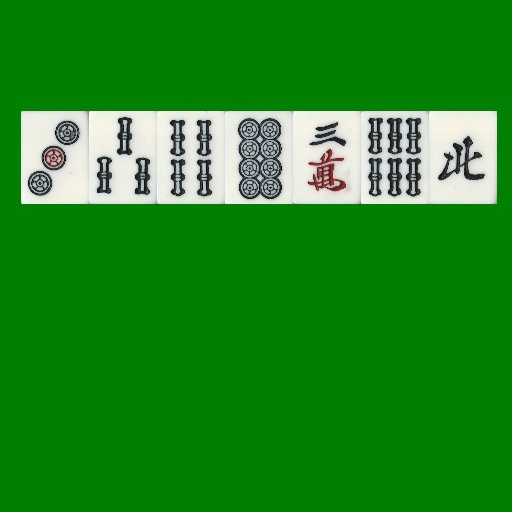3m: (293, 111, 361, 204)
3p: (21, 111, 89, 204)
3s: (89, 111, 157, 204)
4s: (157, 111, 225, 204)
6s: (361, 111, 429, 204)
8p: (225, 111, 293, 204)
north: (429, 111, 497, 204)
